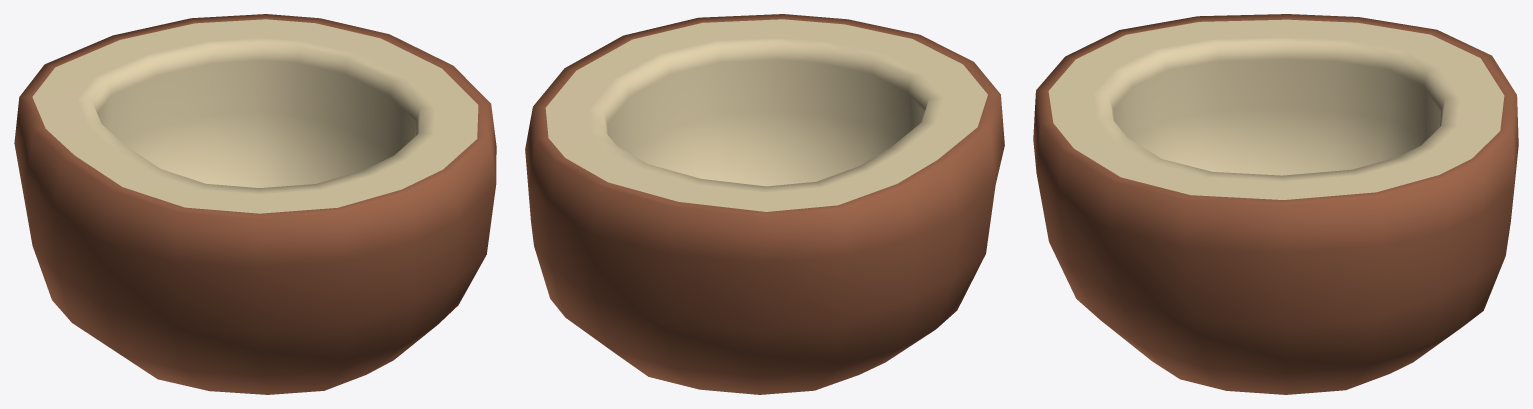
The model's file is Coconut_06.dae.
3 renders of one model, left to right at view 1: azimuth 30°, elevation 25°; view 2: azimuth 150°, elevation 25°; view 3: azimuth 270°, elevation 25°, orthographic.
Visible parts, largest first — view 1: Coconut_06_LOD0; view 2: Coconut_06_LOD0; view 3: Coconut_06_LOD0.
Boxes of the visible parts, x1=… form: Coconut_06_LOD0: x1=14, y1=14, x2=496, y2=394; Coconut_06_LOD0: x1=525, y1=14, x2=1004, y2=394; Coconut_06_LOD0: x1=1033, y1=14, x2=1518, y2=394.
Size of what is drawn, in the model's own units: 3.79 by 3.91 by 2.19.
